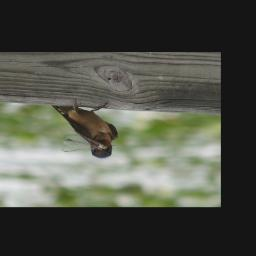Swallow: (51, 97, 118, 159)
